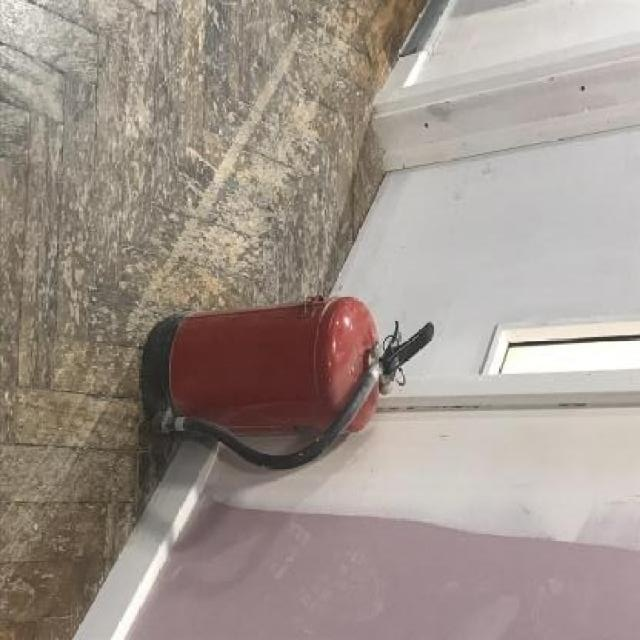fire extinguisher: (140, 298, 435, 473)
